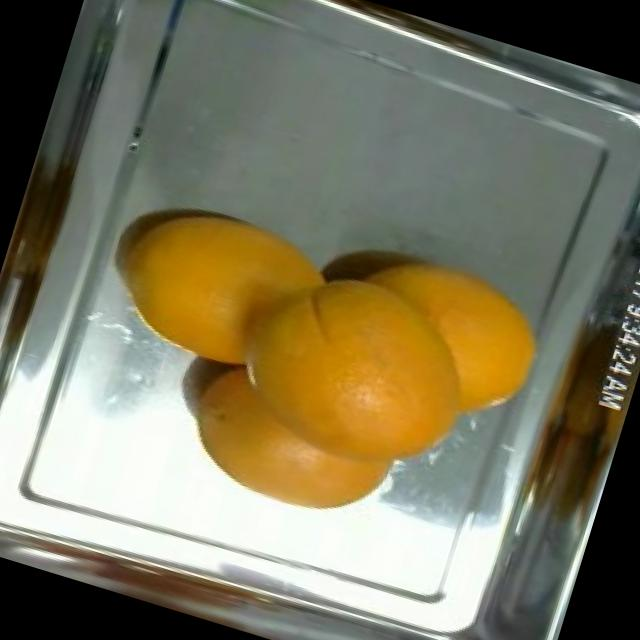Fruit: (342, 234, 576, 454)
